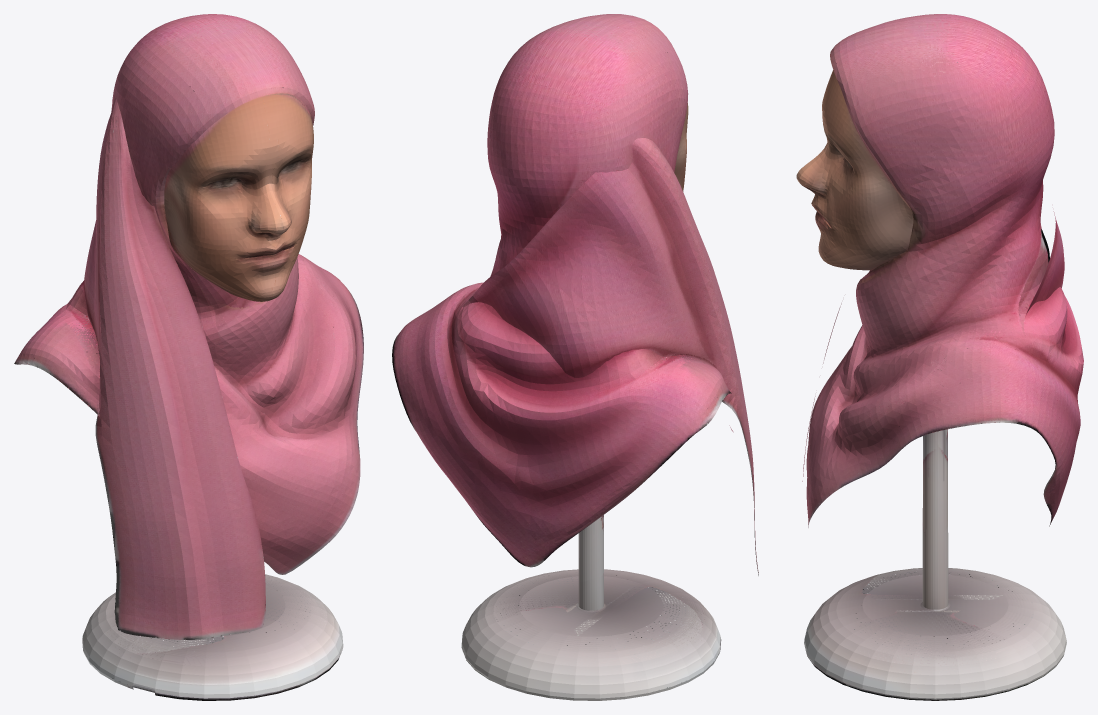
The model's file is textured_syncmvd.glb.
The picture shows the model from 3 angles, left to right: view 1: azimuth 30°, elevation 25°; view 2: azimuth 150°, elevation 25°; view 3: azimuth 270°, elevation 25°; orthographic projection.
Visible parts, largest first — view 1: Node; view 2: Node; view 3: Node.
Boxes of the visible parts, box(x1,y1,x2,y2) form: Node: box(14, 14, 363, 700); Node: box(392, 14, 758, 700); Node: box(796, 14, 1083, 700).
Bounding box in the file's own units: 1.07 × 2 × 0.8639.
Materials: 1 (1 with a texture image).
